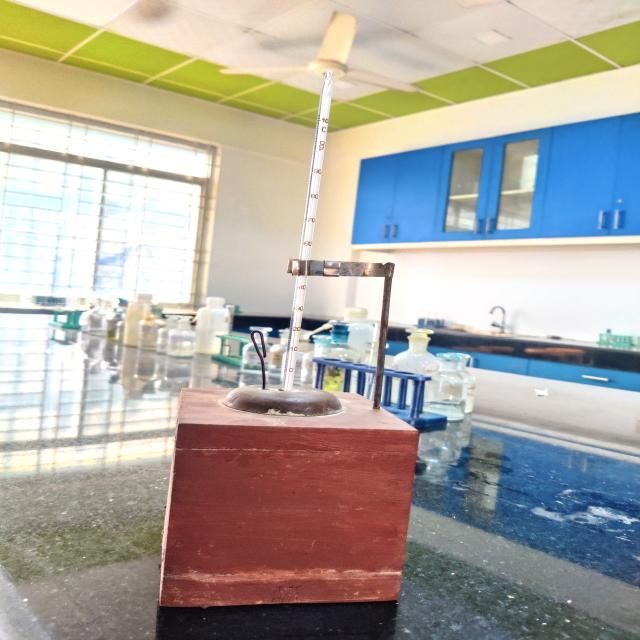Calorimeter: (132, 57, 413, 624)
